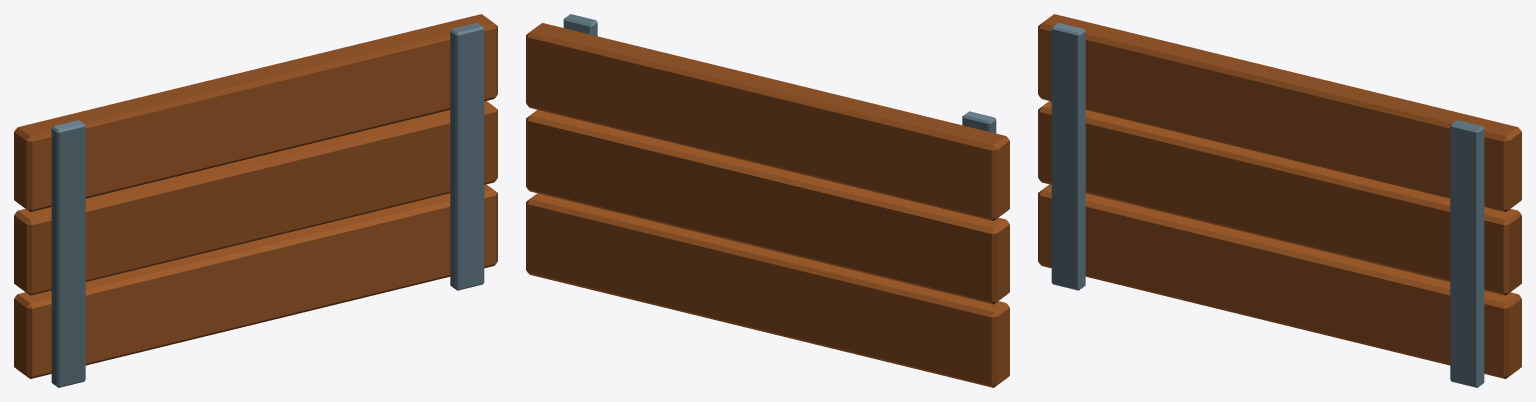
Rendered from D19_Cart_Endgate.fbx.
3 views of the same model, side by side, from view 1: azimuth 30°, elevation 25°; view 2: azimuth 150°, elevation 25°; view 3: azimuth 330°, elevation 25° (orthographic).
Visible parts, largest first — view 1: D19_Cart_Endgate; view 2: D19_Cart_Endgate; view 3: D19_Cart_Endgate.
Part boxes in pixels (x1,y1,x2,y2): D19_Cart_Endgate: (14, 14, 497, 387); D19_Cart_Endgate: (526, 14, 1009, 387); D19_Cart_Endgate: (1038, 14, 1521, 387).
Bounding box in the file's own units: 1.3 × 0.68 × 0.115.
Materials: 2 (2 with a texture image).
